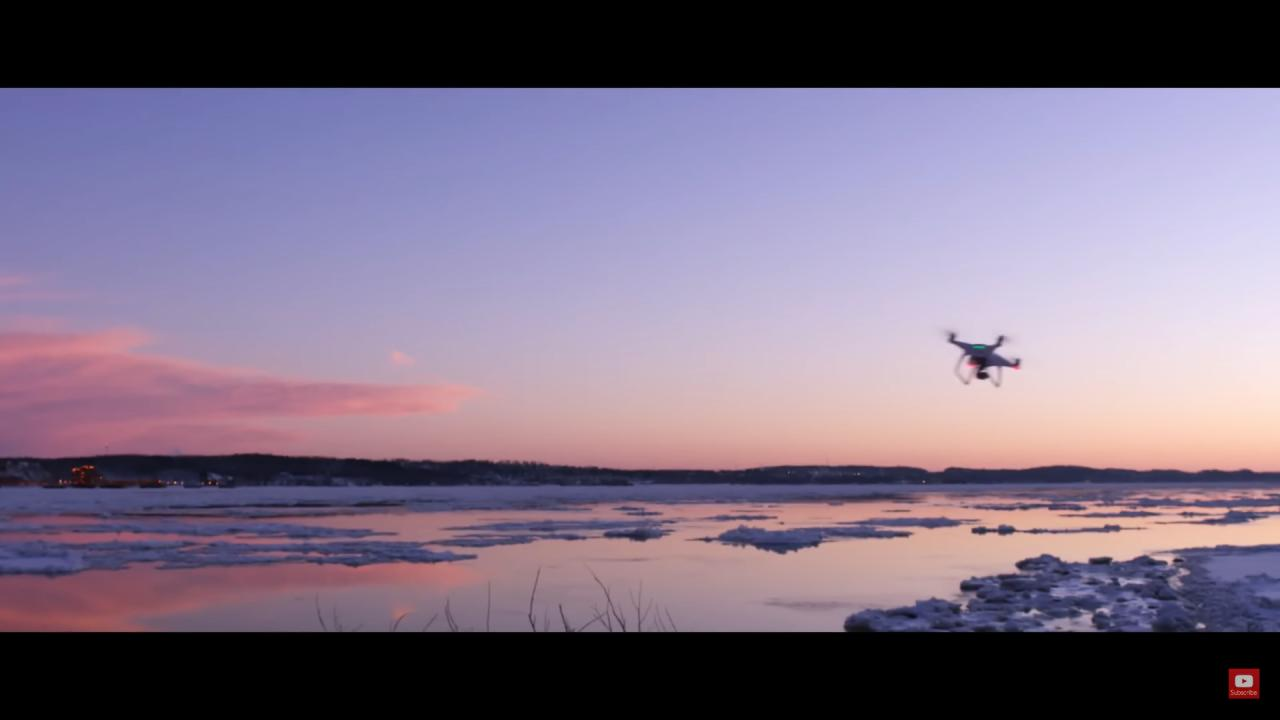Drone: (936, 323, 1031, 400)
